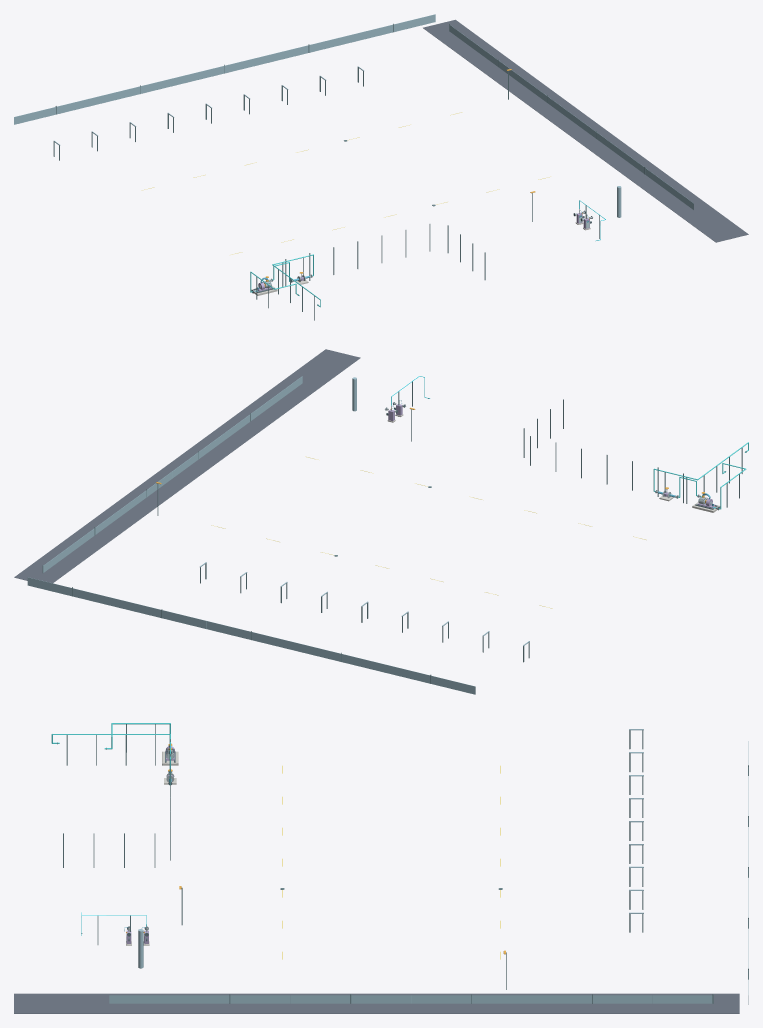
The picture shows the model from 3 angles, top to bottom: view 1: azimuth 30°, elevation 25°; view 2: azimuth 150°, elevation 25°; view 3: azimuth 270°, elevation 25°; orthographic projection. The views are drawn at different scales.
Parts seen in each view (by area): view 1: render-batch-5, render-batch-7, render-batch-6; view 2: render-batch-5, render-batch-7, render-batch-6; view 3: render-batch-5, render-batch-7, render-batch-6.
Boxes of the visible parts, x1,y1,x2,y2 form: render-batch-5: (423,19,748,242); render-batch-7: (14,14,693,217); render-batch-6: (53,23,645,320); render-batch-5: (14,349,360,583); render-batch-7: (27,376,529,694); render-batch-6: (42,381,746,683); render-batch-5: (14,993,739,1013); render-batch-7: (109,729,748,1004); render-batch-6: (57,724,748,1003).
Bounding box in the file's own units: 107 × 7.08 × 125.
